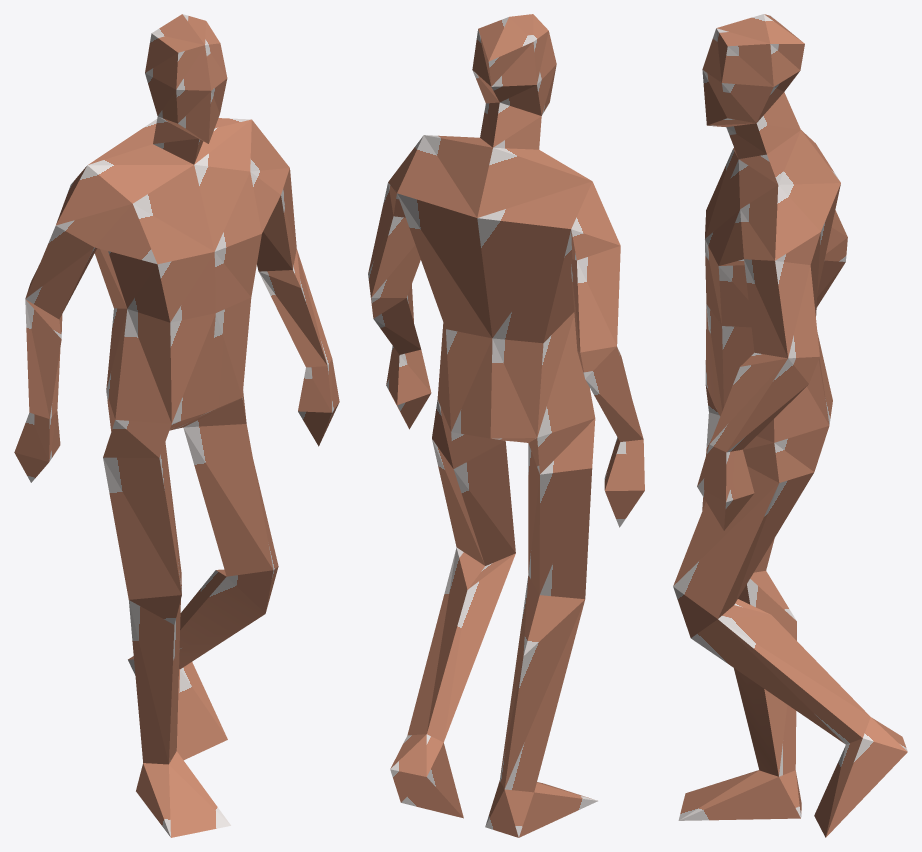
The picture shows the model from 3 angles, left to right: view 1: azimuth 30°, elevation 25°; view 2: azimuth 150°, elevation 25°; view 3: azimuth 270°, elevation 25°; orthographic projection. The views are drawn at different scales.
Visible parts, largest first — view 1: Default; view 2: Default; view 3: Default.
Boxes of the visible parts, x1,y1,x2,y2 form: Default: (14,14,339,837); Default: (368,14,644,837); Default: (673,14,907,837).
Size of the model in its own units: 0.8458 by 2.19 by 0.5795.
